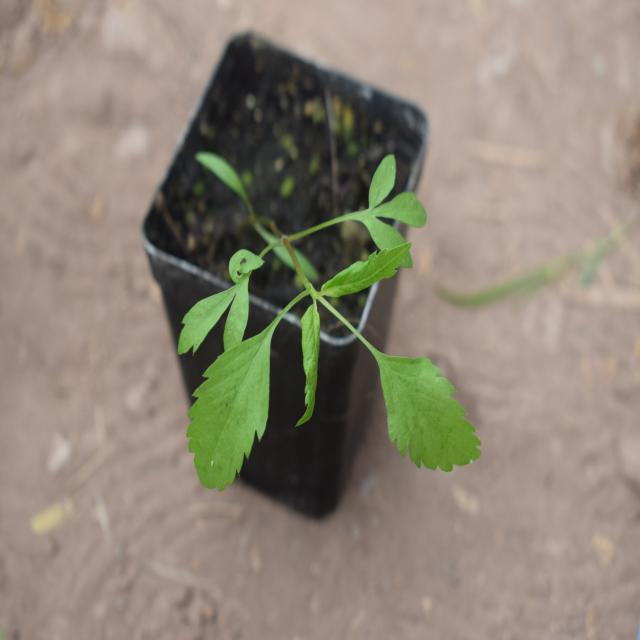Bidens pilosa: (132, 157, 483, 523)
